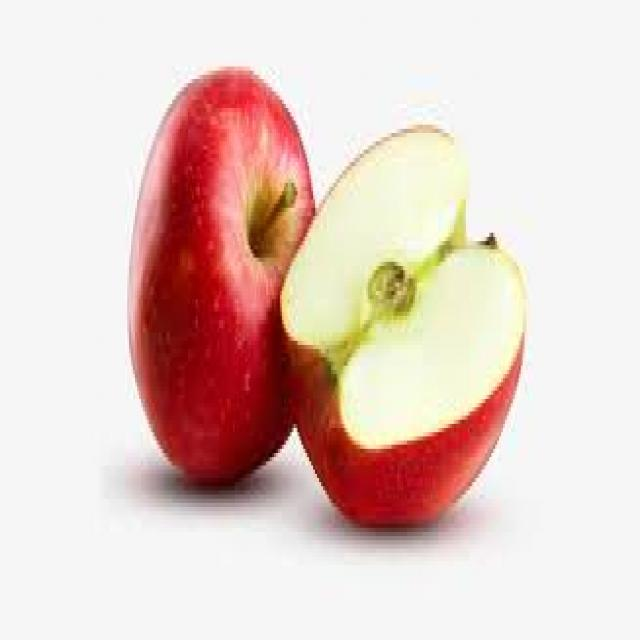Apple: (281, 123, 524, 515), (127, 67, 315, 476)
